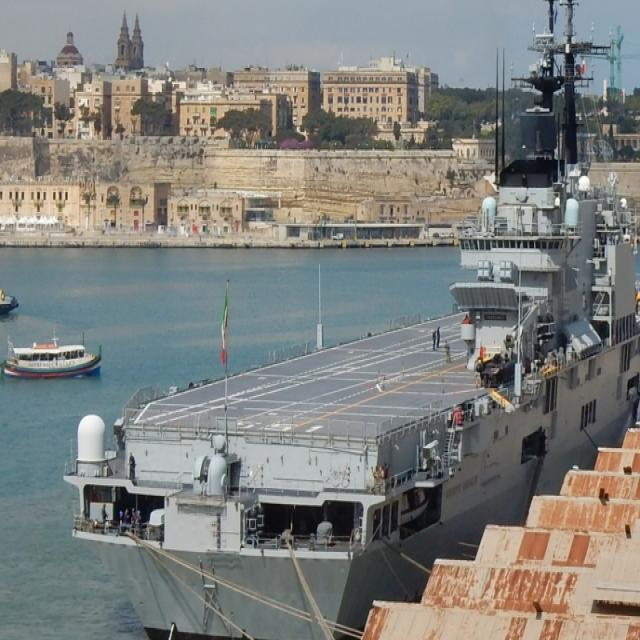Portanaves: (58, 1, 640, 640)
